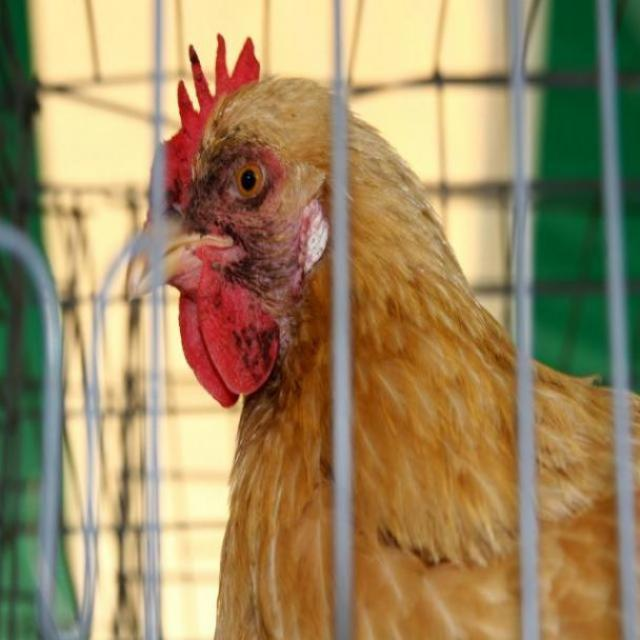Chicken: (122, 30, 640, 639)
